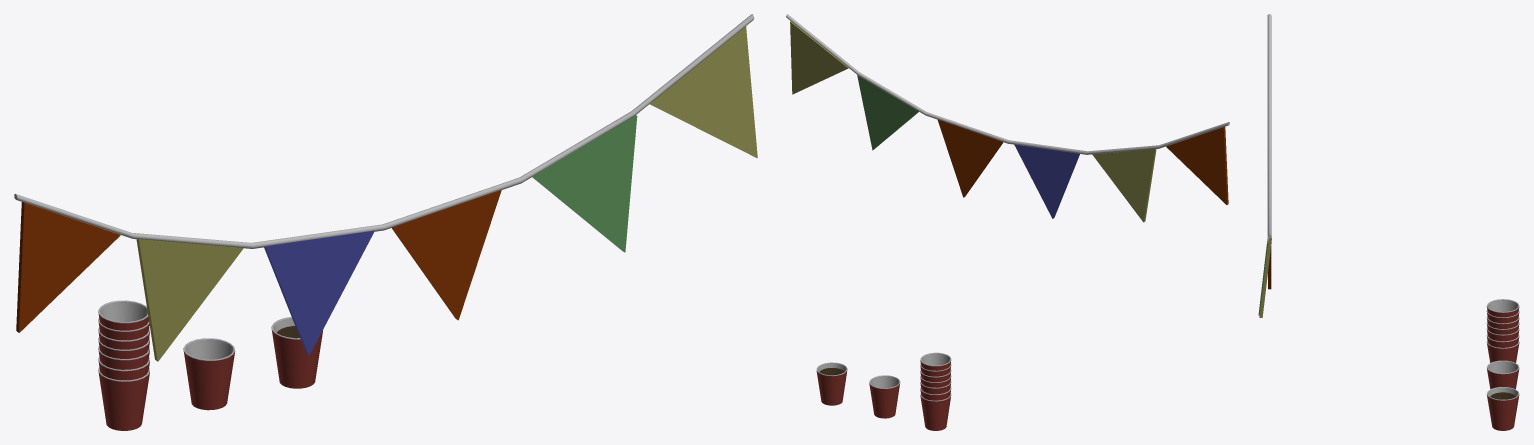
File: banner_redcups.fbx
3 views of the same model, side by side, from view 1: azimuth 30°, elevation 25°; view 2: azimuth 150°, elevation 25°; view 3: azimuth 270°, elevation 25° (orthographic). The views are drawn at different scales.
Visible parts, largest first — view 1: banner, cupstack, emptycup, sodacup; view 2: banner, cupstack, emptycup, sodacup; view 3: cupstack, banner, sodacup, emptycup.
Part boxes in pixels (bbox=[...]): banner: bbox=[14, 14, 757, 361]; cupstack: bbox=[98, 300, 149, 430]; emptycup: bbox=[183, 338, 235, 410]; sodacup: bbox=[271, 317, 322, 388]; banner: bbox=[786, 14, 1229, 222]; cupstack: bbox=[920, 352, 951, 430]; emptycup: bbox=[869, 375, 900, 418]; sodacup: bbox=[816, 362, 847, 405]; cupstack: bbox=[1486, 299, 1519, 362]; banner: bbox=[1258, 14, 1271, 317]; sodacup: bbox=[1486, 387, 1519, 430]; emptycup: bbox=[1486, 360, 1519, 389].
Bounding box in the file's own units: 3.25 × 1.86 × 1.63.
